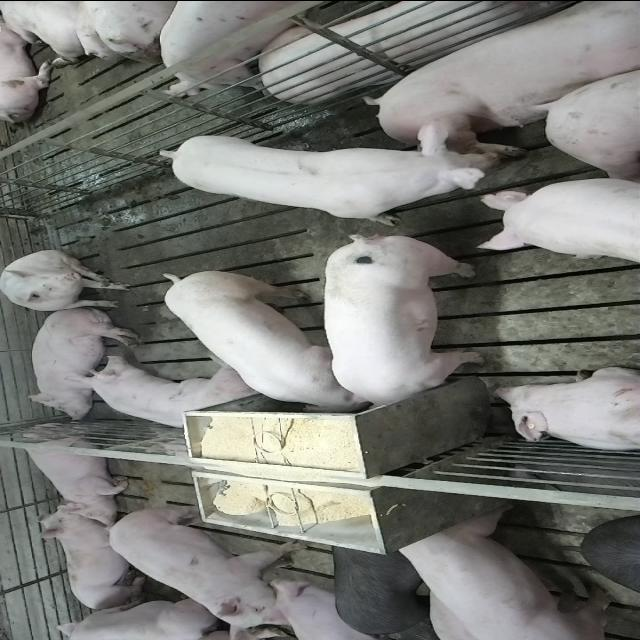Feeding: (161, 264, 369, 412), (322, 228, 484, 408)
Lateral_lying: (368, 3, 640, 162), (258, 0, 592, 102), (23, 306, 141, 421)
Sitting: (2, 249, 134, 312)
Standing: (154, 130, 496, 220), (394, 508, 616, 638), (110, 504, 314, 628), (163, 0, 349, 94), (475, 178, 640, 272), (326, 542, 442, 638)
Sternal_lying: (73, 355, 260, 433), (490, 365, 640, 453), (34, 504, 152, 613), (13, 424, 132, 514)
